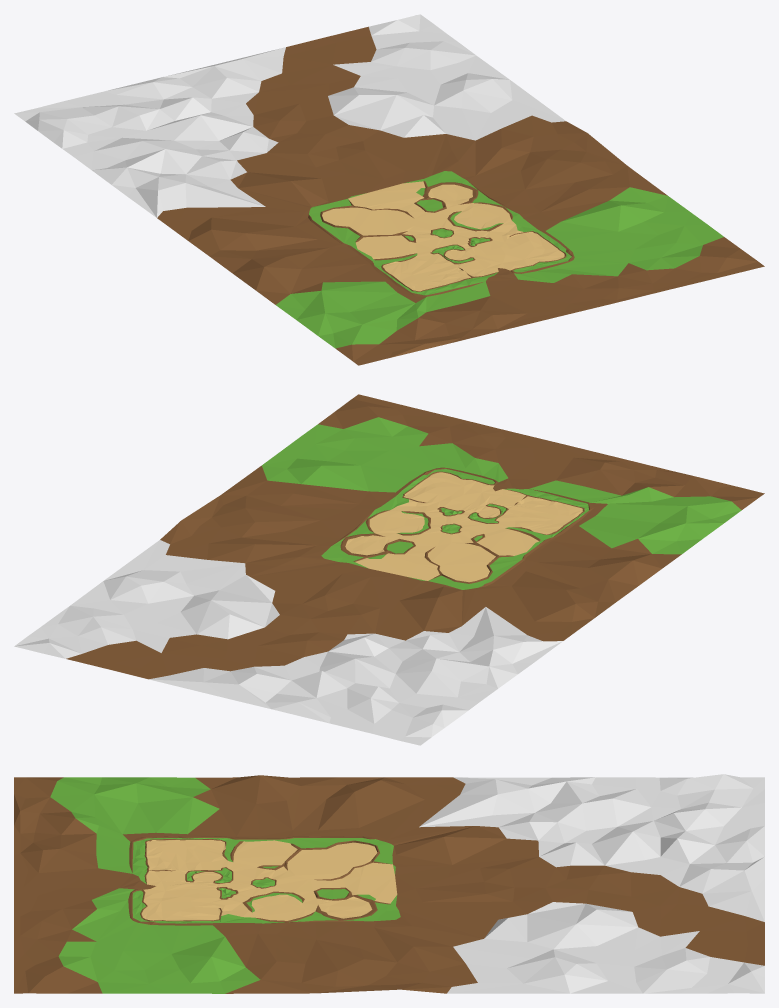
File: Ground_Fort_01.fbx
3 renders of one model, top to bottom at view 1: azimuth 30°, elevation 25°; view 2: azimuth 150°, elevation 25°; view 3: azimuth 270°, elevation 25°, orthographic. The views are drawn at different scales.
Visible parts, largest first — view 1: Fort_Ground.001; view 2: Fort_Ground.001; view 3: Fort_Ground.001.
Part boxes in pixels (x1,y1,x2,y2): Fort_Ground.001: [14, 14, 764, 365]; Fort_Ground.001: [14, 394, 764, 745]; Fort_Ground.001: [14, 774, 764, 993].
Size of the model in its own units: 8804 by 313 by 12925.
